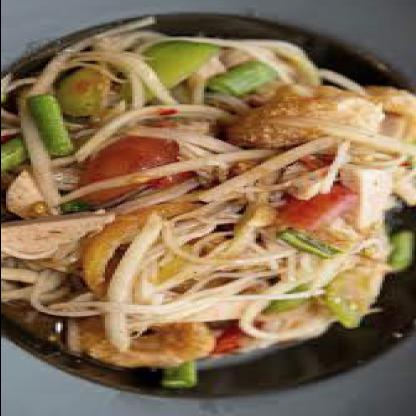Papaya Salad: (2, 24, 388, 384)
